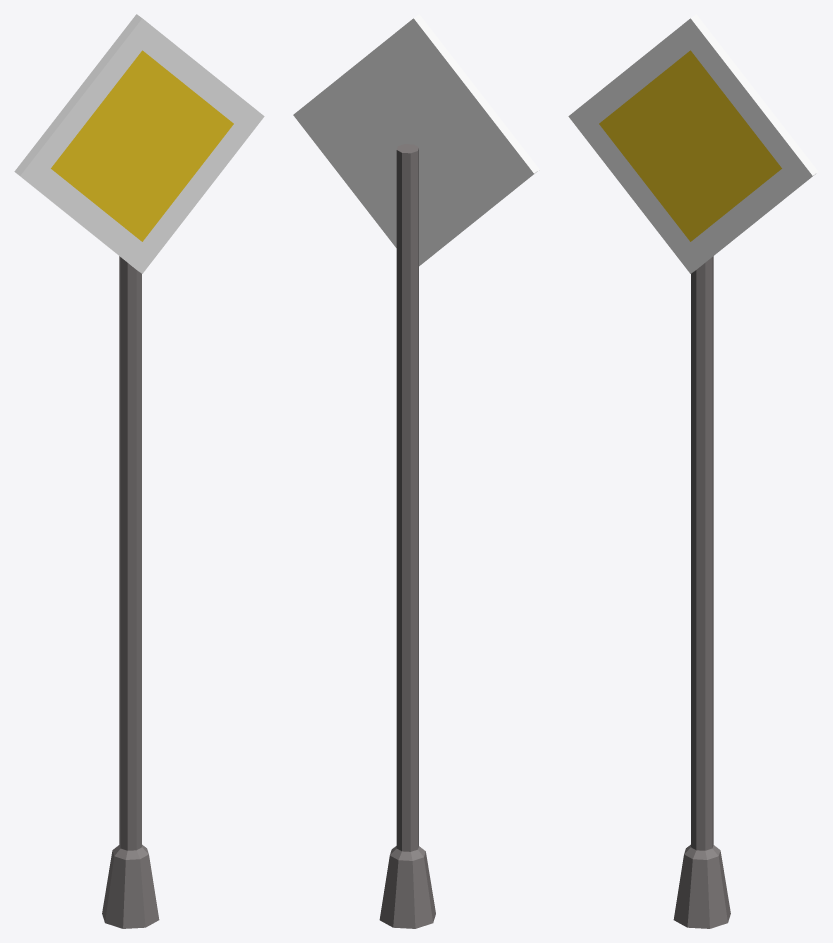
The model's file is apocalypse_traffic-sign-main.fbx.
3 views of the same model, side by side, from view 1: azimuth 30°, elevation 25°; view 2: azimuth 150°, elevation 25°; view 3: azimuth 330°, elevation 25° (orthographic).
Parts seen in each view (by area): view 1: apocalypse_traffic_sign_main; view 2: apocalypse_traffic_sign_main; view 3: apocalypse_traffic_sign_main.
Boxes of the visible parts, left/top/right/bottom form: apocalypse_traffic_sign_main: left=14, top=14, right=264, bottom=928; apocalypse_traffic_sign_main: left=293, top=14, right=539, bottom=928; apocalypse_traffic_sign_main: left=568, top=14, right=818, bottom=928.
Size of the model in its own units: 56.4 by 200 by 11.86.
